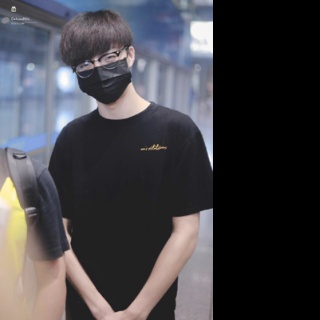with_mask: (75, 45, 133, 104)
